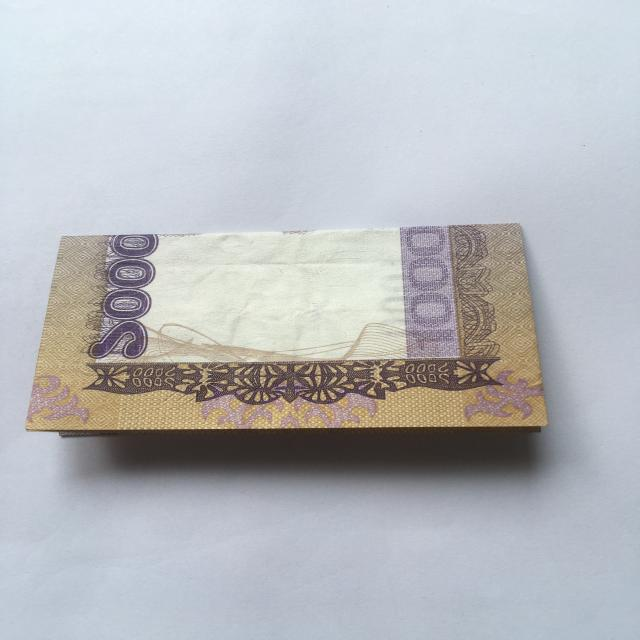Taka: (33, 220, 553, 440)
